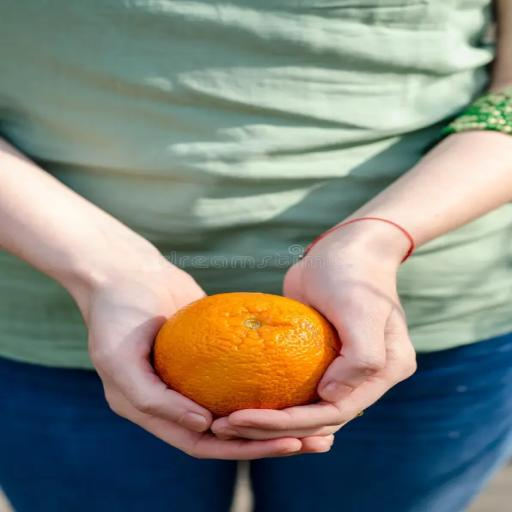orange: (154, 293, 339, 416)
